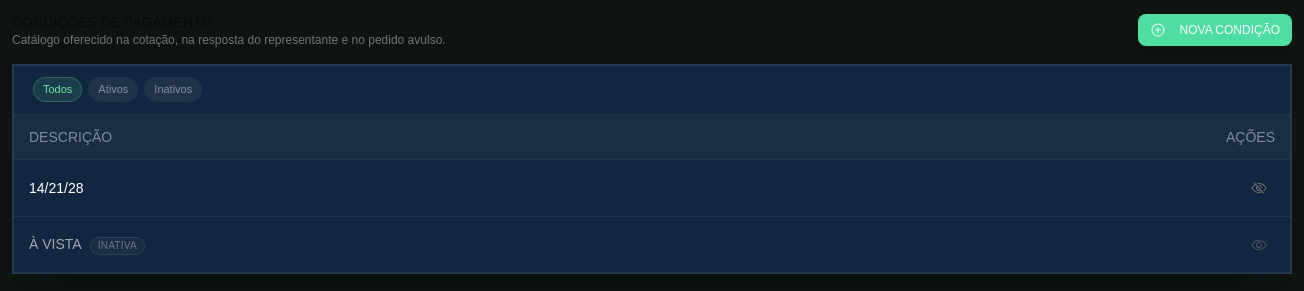
Scenario: condição inativa aparece apagada com "Ativar"; clicar reativa
Check: the text "À vista" is shown, box [29, 236, 82, 252]
Check: the text "Inativa" is shown, box [90, 237, 145, 255]
Click the button named "Ativar" at (1259, 244), box [1243, 228, 1275, 260]
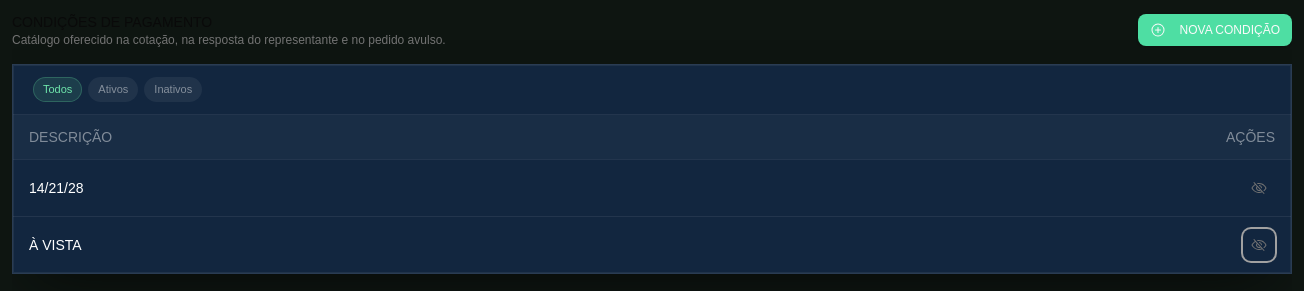
Check: the text "Inativa" is gone
